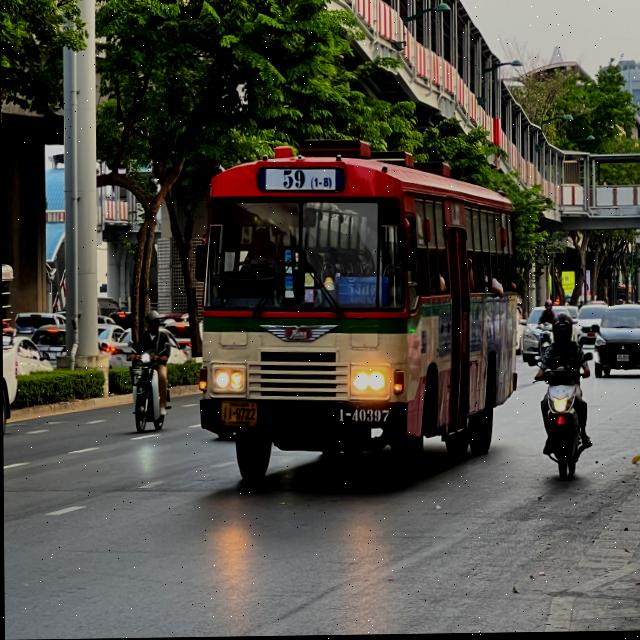BMTA-bus: (190, 128, 523, 492)
Bus-Line-Number: (257, 166, 343, 196)
Destination-Sign-Normal: (336, 275, 389, 310)
